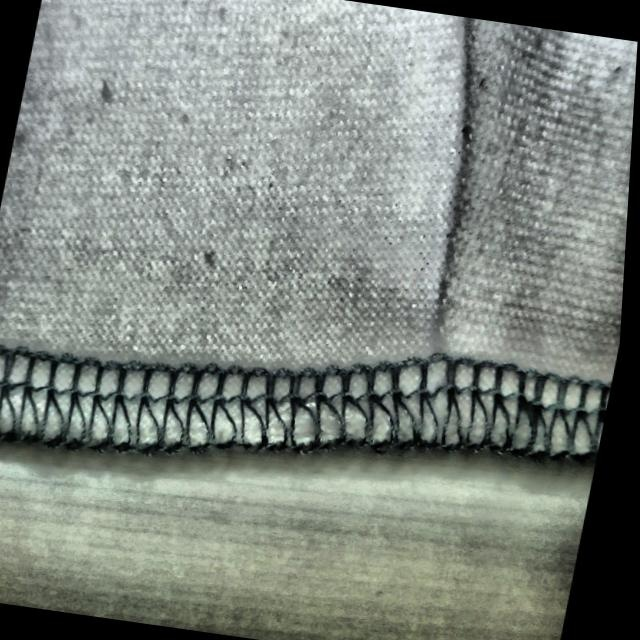seam: (351, 106, 569, 481)
